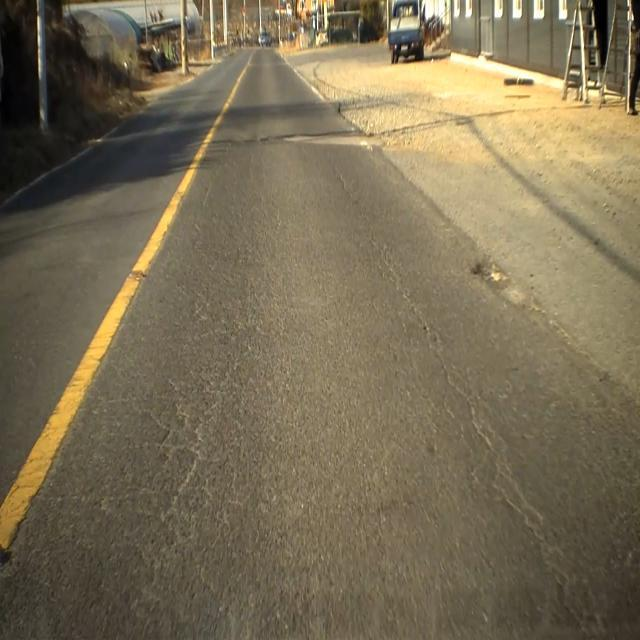Buraco: (467, 252, 515, 292)
